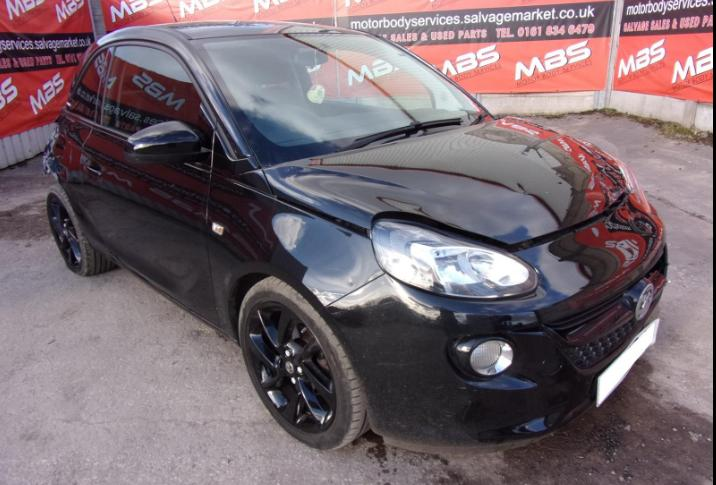Back-wheel: (46, 182, 118, 277)
Back-window: (71, 49, 108, 121)
Fender: (206, 168, 385, 343)
Front-bumper: (318, 193, 668, 455)
Front-door: (82, 41, 222, 328)
Front-wheel: (238, 276, 370, 452)
Front-window: (103, 46, 226, 157)
Grille: (542, 244, 668, 369)
Headlight: (372, 220, 538, 300), (614, 156, 652, 212)
Hood: (264, 114, 627, 245)
License-plate: (597, 318, 658, 407)
Mirror: (124, 121, 236, 179)
Quarter-panel: (42, 108, 106, 256)
Rocker-panel: (104, 247, 236, 346)
Roof: (90, 20, 372, 54)
Windshield: (187, 33, 494, 168)
